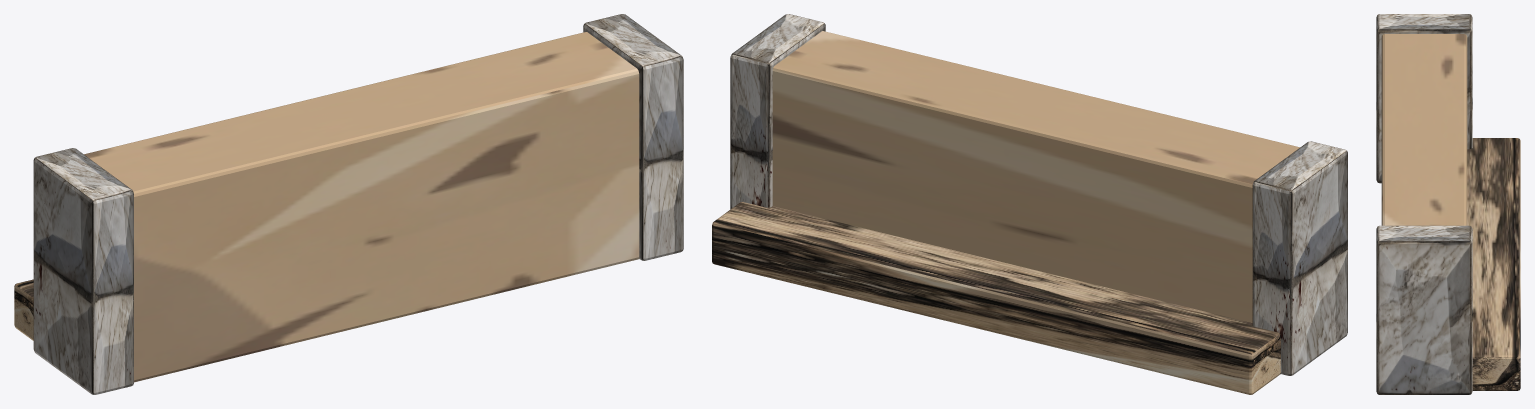
Rendered from parapet_combat_straight_4m_LOD1.glb.
3 views of the same model, side by side, from view 1: azimuth 30°, elevation 25°; view 2: azimuth 150°, elevation 25°; view 3: azimuth 270°, elevation 25° (orthographic). The views are drawn at different scales.
Parts seen in each view (by area): view 1: LOD1_Parapet, LOD1_Terminal, LOD1_Terminal.001, LOD1_FiringStep; view 2: LOD1_Parapet, LOD1_FiringStep, LOD1_Terminal, LOD1_Terminal.001; view 3: LOD1_Parapet, LOD1_Terminal.001, LOD1_FiringStep, LOD1_Terminal.
Part boxes in pixels (box(x1,y1,x2,y2)): LOD1_Parapet: box(84, 32, 639, 382); LOD1_Terminal: box(33, 148, 133, 394); LOD1_Terminal.001: box(583, 14, 683, 260); LOD1_FiringStep: box(14, 279, 33, 340); LOD1_Parapet: box(772, 31, 1299, 322); LOD1_FiringStep: box(712, 201, 1280, 394); LOD1_Terminal: box(1252, 141, 1347, 375); LOD1_Terminal.001: box(730, 14, 825, 209); LOD1_Parapet: box(1381, 34, 1467, 225); LOD1_Terminal.001: box(1376, 225, 1472, 394); LOD1_FiringStep: box(1467, 138, 1520, 390); LOD1_Terminal: box(1376, 14, 1472, 183).
Size of the model in its own units: 4.16 by 1.32 by 1.11.
3 materials, 3 textured.
